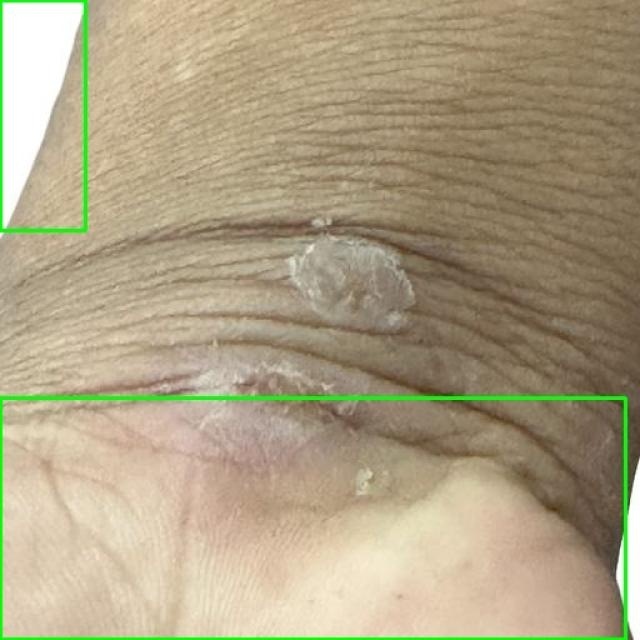Scabies: (0, 398, 625, 639), (0, 0, 85, 230)
